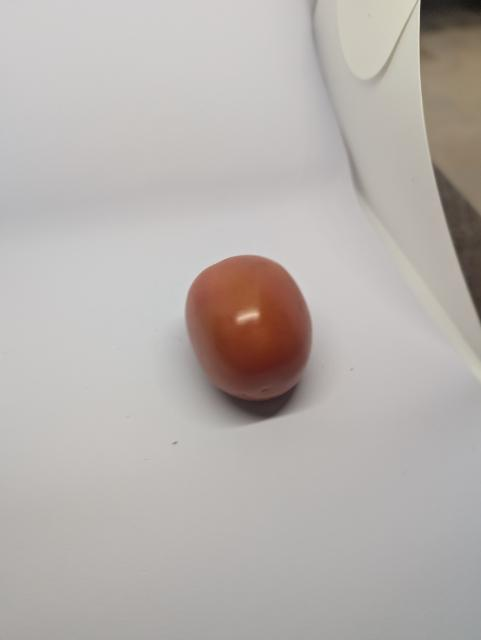red: (165, 245, 356, 427)
